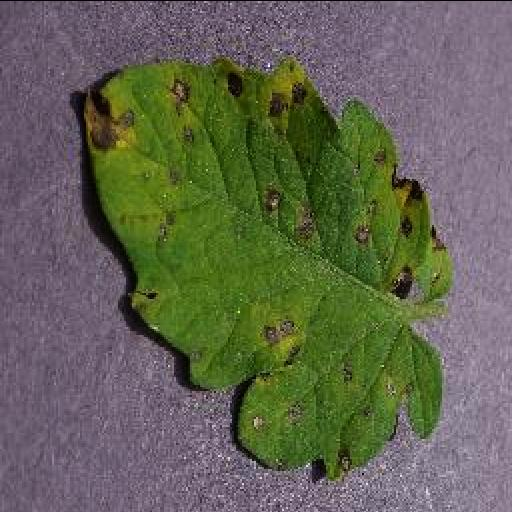disease_tomato: (72, 52, 450, 474)
